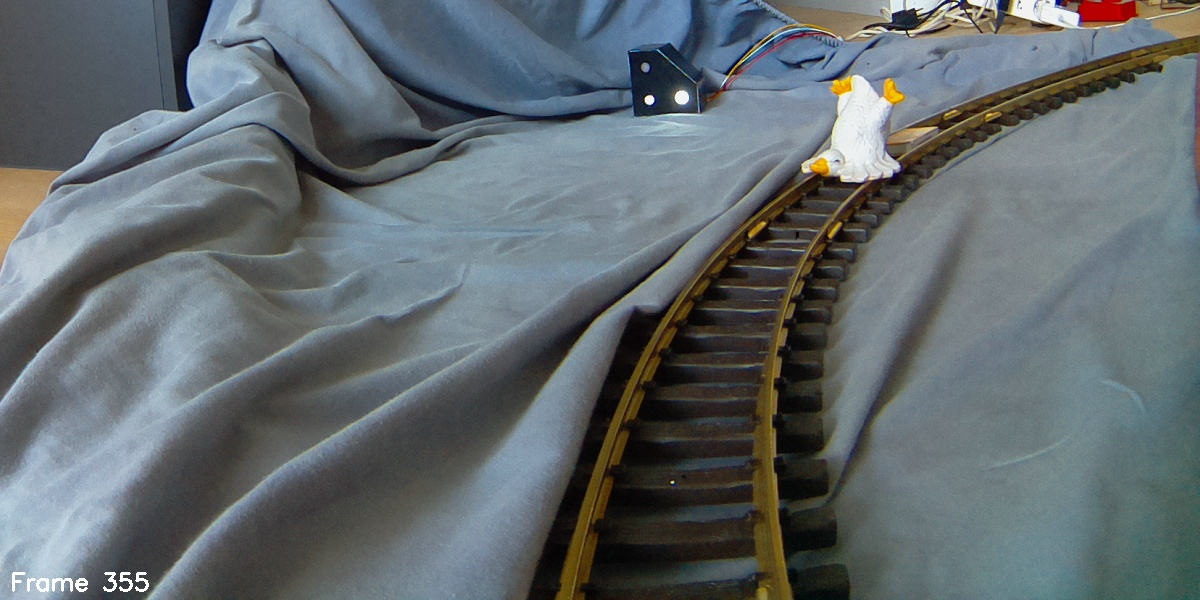Ente: (798, 72, 901, 189)
Halt: (628, 44, 702, 117)
